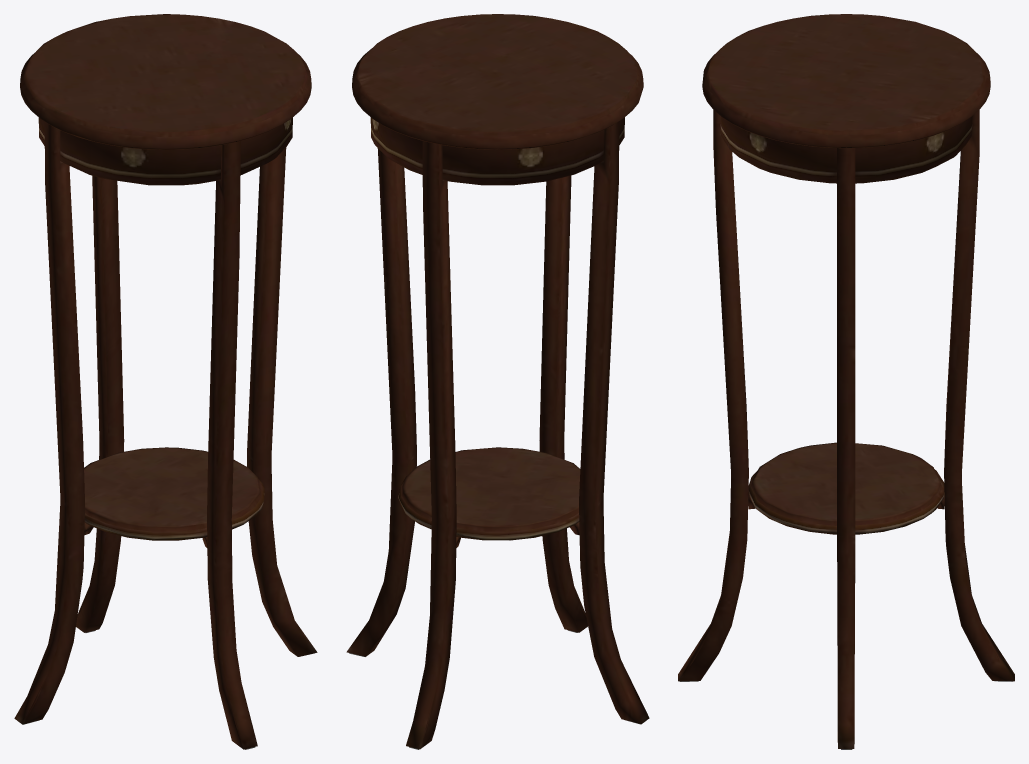
The model's file is side_table_tall_01.glb.
3 views of the same model, side by side, from view 1: azimuth 30°, elevation 25°; view 2: azimuth 150°, elevation 25°; view 3: azimuth 270°, elevation 25° (orthographic).
Parts seen in each view (by area): view 1: side_table_tall_01; view 2: side_table_tall_01; view 3: side_table_tall_01.
Boxes of the visible parts, box(x1,y1,x2,y2) form: side_table_tall_01: box(14, 14, 317, 749); side_table_tall_01: box(346, 14, 649, 749); side_table_tall_01: box(678, 14, 1014, 749).
Size of the model in its own units: 0.3828 by 0.7611 by 0.3828.
1 material, 1 textured.
